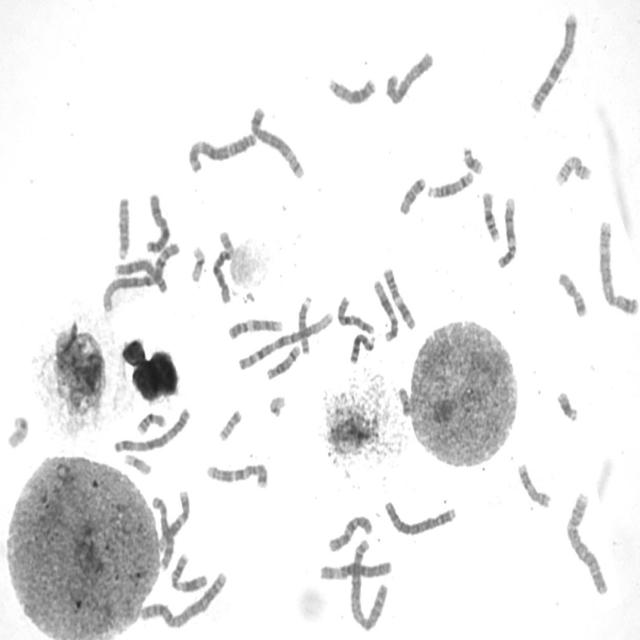A1: (234, 307, 336, 372), (100, 238, 182, 315)
A2: (138, 568, 230, 631), (347, 534, 390, 633)
A3: (111, 404, 192, 455), (186, 128, 259, 174)
B4: (564, 488, 611, 597), (381, 497, 459, 537)
B5: (247, 103, 306, 180), (596, 217, 640, 317)
C10: (326, 512, 374, 554), (334, 292, 376, 336)
C11: (380, 263, 418, 332), (168, 550, 209, 594)
C12: (156, 486, 192, 553), (370, 276, 400, 344)
C6: (317, 556, 394, 582), (210, 230, 237, 304)
C7: (528, 8, 579, 113), (203, 459, 270, 490)
C8: (112, 256, 170, 294), (149, 492, 176, 572)
C9: (495, 193, 519, 270), (226, 315, 284, 342)
D13: (326, 72, 378, 106), (347, 329, 377, 366)
D14: (425, 167, 476, 200), (264, 341, 302, 381)
D15: (115, 193, 132, 262), (296, 293, 314, 356)
E16: (479, 187, 502, 243), (134, 409, 168, 436)
E17: (515, 459, 553, 510), (553, 151, 593, 188)
E18: (556, 269, 589, 319), (397, 172, 428, 216)
F19: (188, 242, 208, 284), (122, 450, 153, 477)
F20: (216, 406, 244, 443), (396, 383, 412, 418)
G21: (554, 388, 580, 423), (460, 143, 484, 176)
G22: (4, 412, 30, 450), (267, 392, 287, 418)
X: (383, 48, 435, 106), (143, 189, 172, 254)
